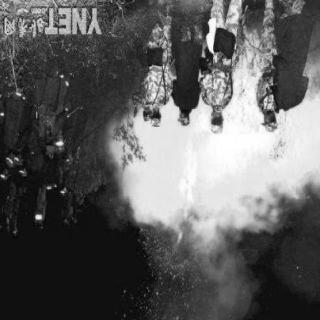Fire: (109, 53, 319, 311)
